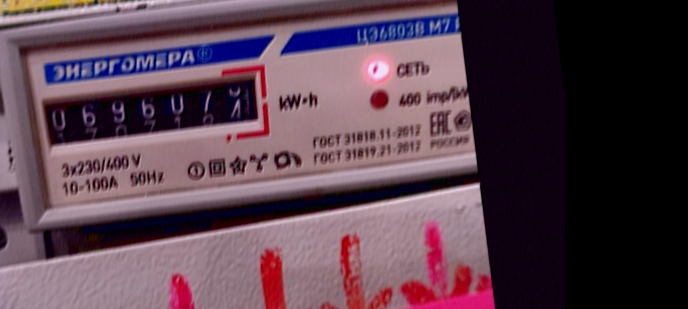0: (48, 105, 68, 131), (167, 89, 185, 115)
4: (225, 96, 244, 122)
6: (137, 93, 157, 119), (78, 101, 97, 127)
7: (197, 87, 215, 115)
9: (107, 98, 126, 124)
screen: (26, 58, 276, 161)
